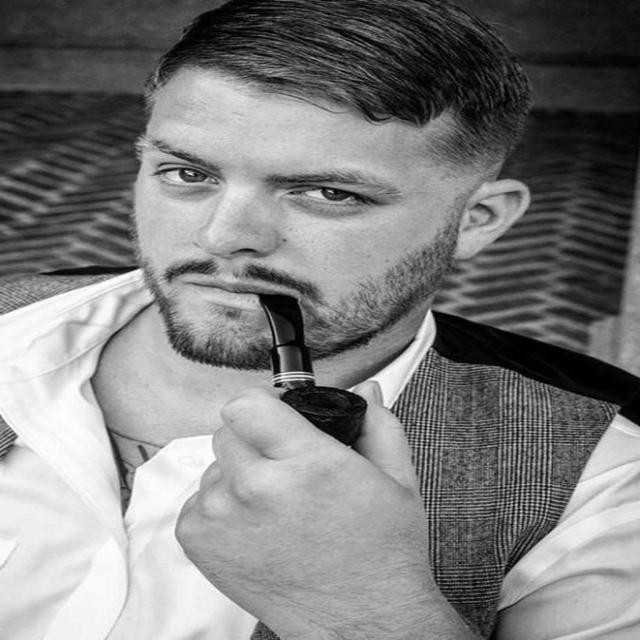smoking: (112, 0, 558, 459)
